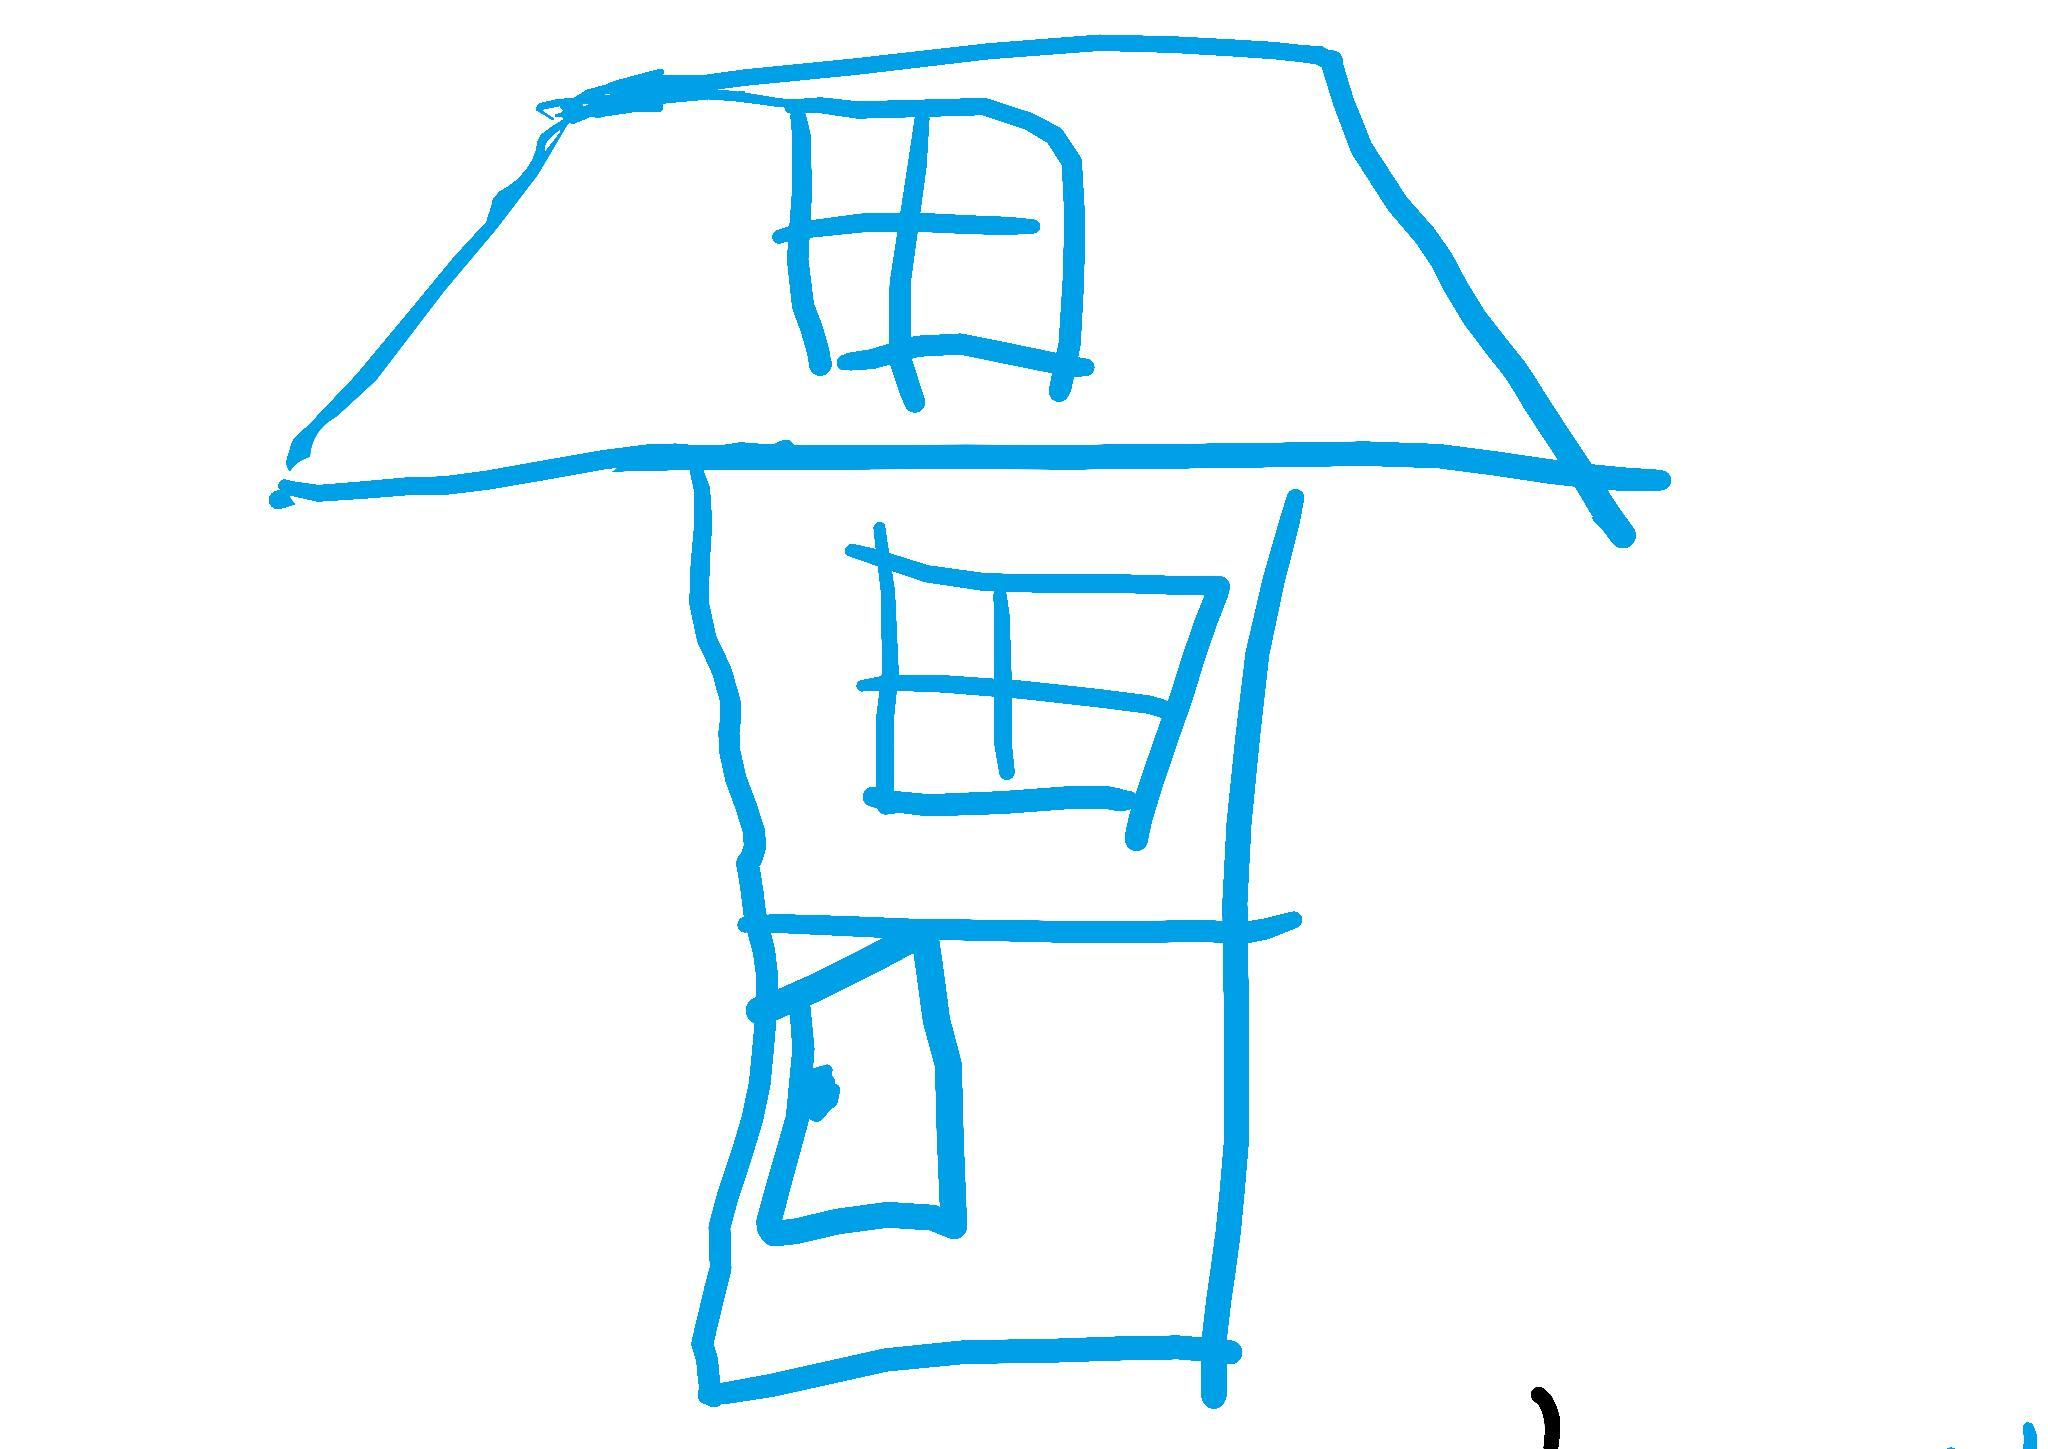door: (756, 938, 968, 1248)
house: (271, 34, 1670, 1408)
roof: (278, 34, 1667, 514)
wall: (692, 467, 1303, 1382)
window: (845, 522, 1231, 848), (775, 94, 1095, 398)
